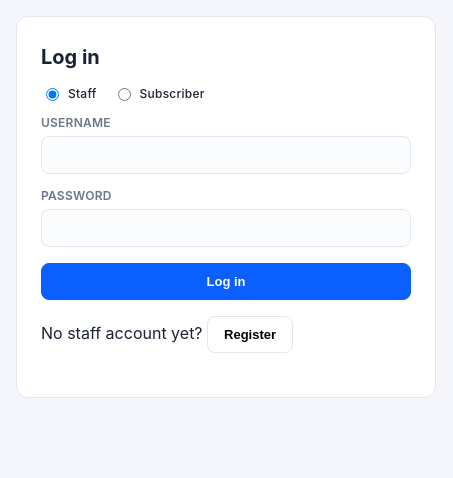
Test: LoginPage › shows an error message when login fails
The image size is (453, 478).
In the field labelled "Username": (226, 155) [41,136,411,174], type "admin_raj"
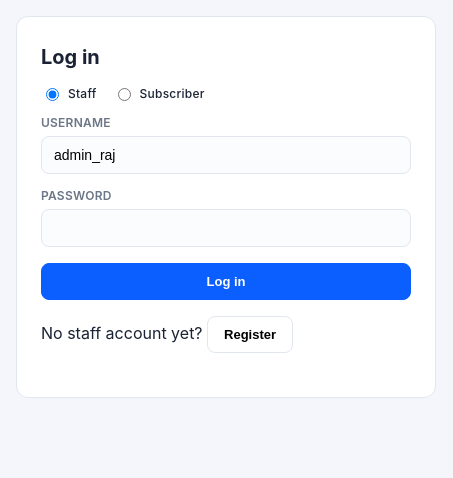
In the password field labelled "Password": (226, 228) [41,209,411,247], type "wrong"
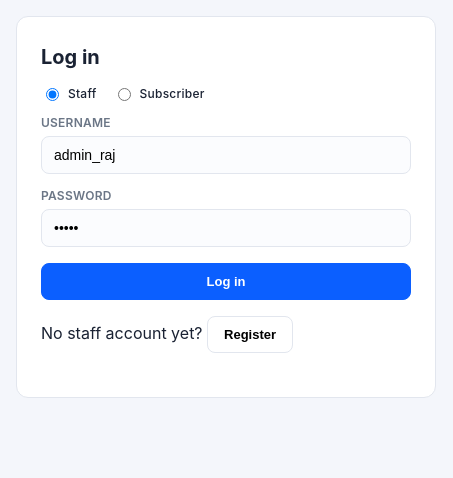
Click the button "Log in": (226, 282) [41,263,411,300]
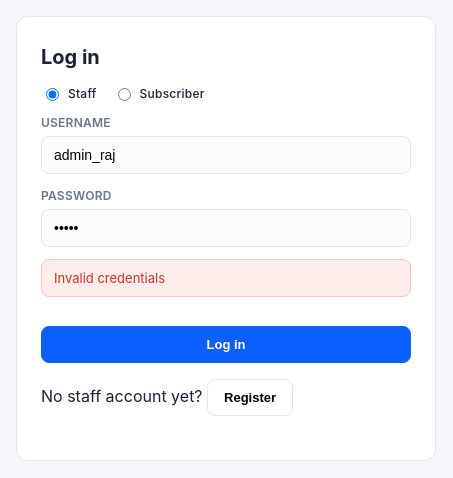
Result: the message reads "Invalid credentials" at [54,270,165,286]
